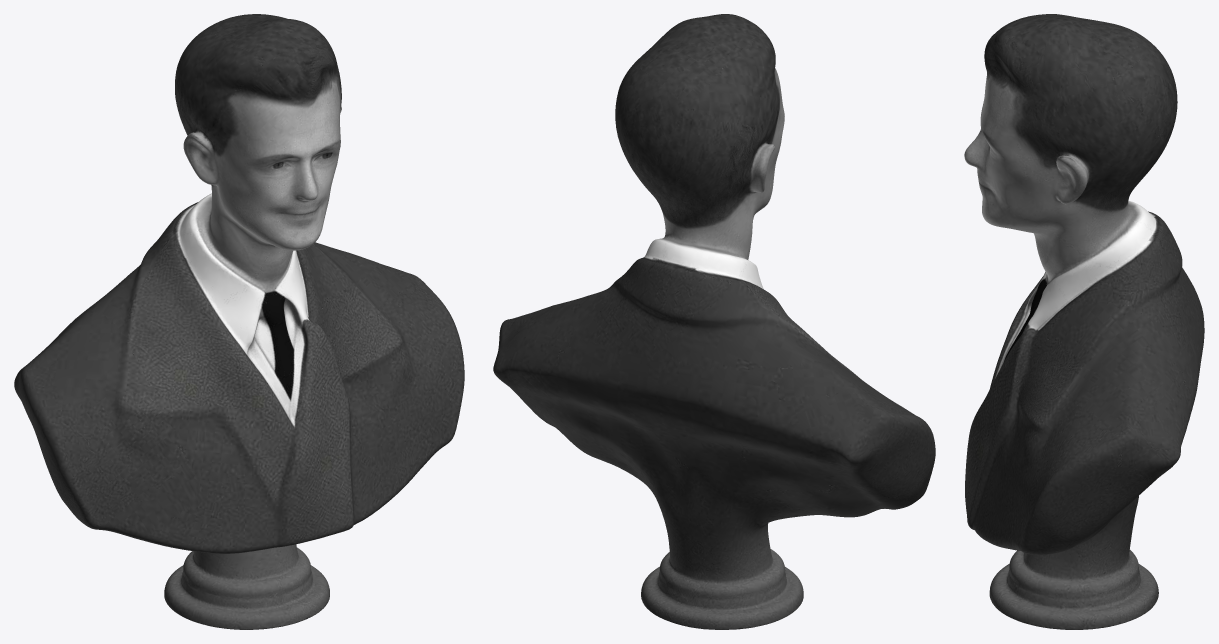
The picture shows the model from 3 angles, left to right: view 1: azimuth 30°, elevation 25°; view 2: azimuth 150°, elevation 25°; view 3: azimuth 270°, elevation 25°; orthographic projection. The views are drawn at different scales.
Size of the model in its own units: 1.44 by 1.9 by 0.7074.
Materials: 1 (1 with a texture image).
